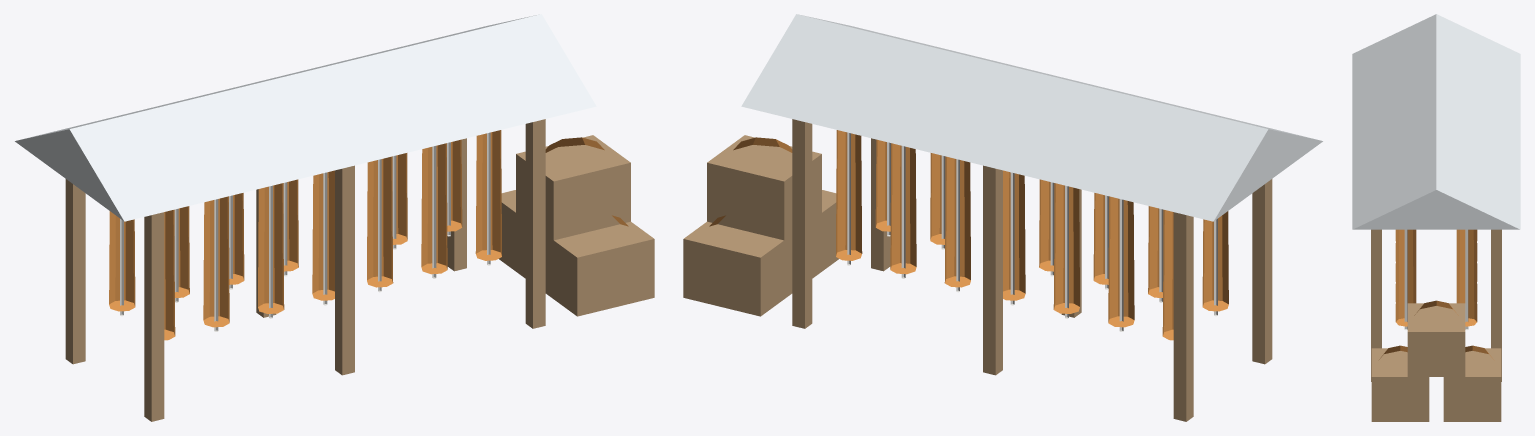
The model's file is prop_22_dalat_persimmon_hanging_drying_rack_and_harvest_crates.glb.
The picture shows the model from 3 angles, left to right: view 1: azimuth 30°, elevation 25°; view 2: azimuth 150°, elevation 25°; view 3: azimuth 270°, elevation 25°; orthographic projection. The views are drawn at different scales.
Parts seen in each view (by area): view 1: prop_22_dalat_persimmon_hanging_drying_rack_and_harvest_crat; view 2: prop_22_dalat_persimmon_hanging_drying_rack_and_harvest_crat; view 3: prop_22_dalat_persimmon_hanging_drying_rack_and_harvest_crat.
Boxes of the visible parts, x1,y1,x2,y2 form: prop_22_dalat_persimmon_hanging_drying_rack_and_harvest_crat: [15, 14, 654, 421]; prop_22_dalat_persimmon_hanging_drying_rack_and_harvest_crat: [683, 14, 1322, 421]; prop_22_dalat_persimmon_hanging_drying_rack_and_harvest_crat: [1352, 14, 1520, 421].
Size of the model in its own units: 5.97 by 2.85 by 2.1.
